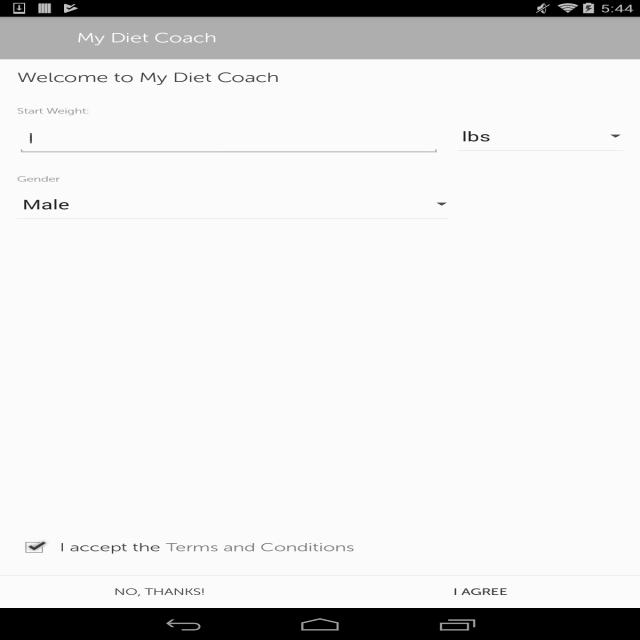Button: (320, 576, 640, 608), (0, 576, 319, 608)
CheckBox: (17, 537, 51, 558)
EditText: (17, 122, 441, 154)
Spinner: (17, 189, 449, 219), (458, 121, 623, 151)
TextView: (0, 164, 640, 189), (22, 195, 449, 213), (166, 530, 372, 565), (17, 70, 280, 85), (60, 530, 166, 565), (462, 127, 623, 145), (0, 96, 106, 121), (77, 30, 217, 46)
